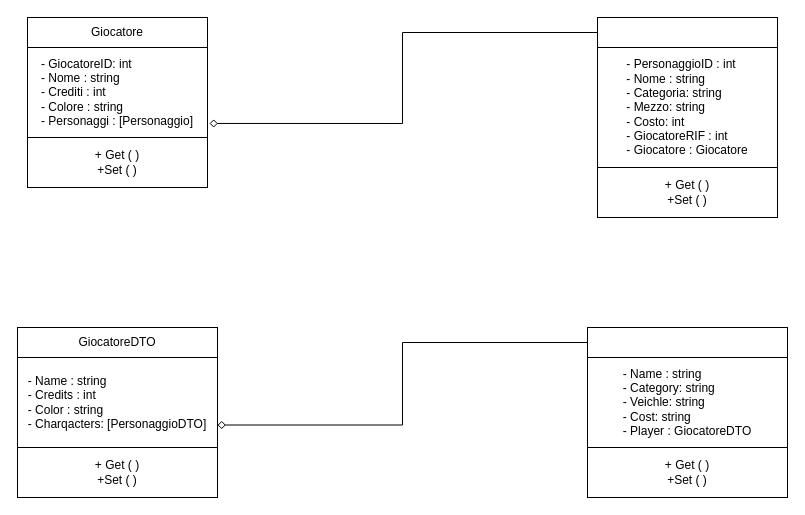
Some shapes in this 805 by 515 pixel diagram are drawn without their labels. Here are the shapes that lost their labels. From the top down, the box of each, then its label:
(596, 16, 778, 48): Personaggio
(586, 326, 788, 358): PersonaggioDTO
